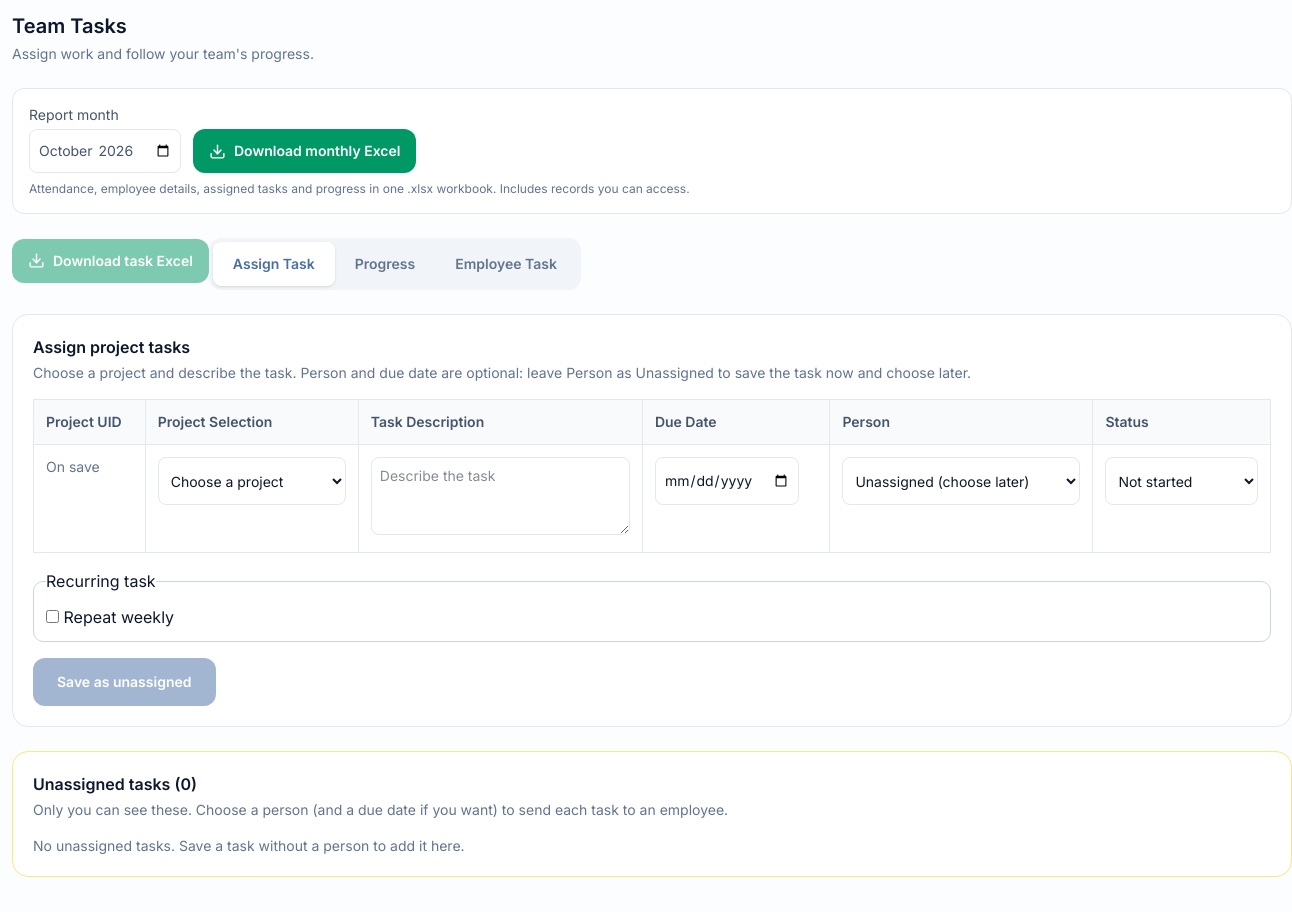
Scenario: manager task assignments › lists every active employee, not only direct reports, and opens progress
This screenshot has width=1292, height=912.
Step 1. Select "My Employee" in the dropdown named "Person" → coordinates (961, 481), box [842,457,1080,505]
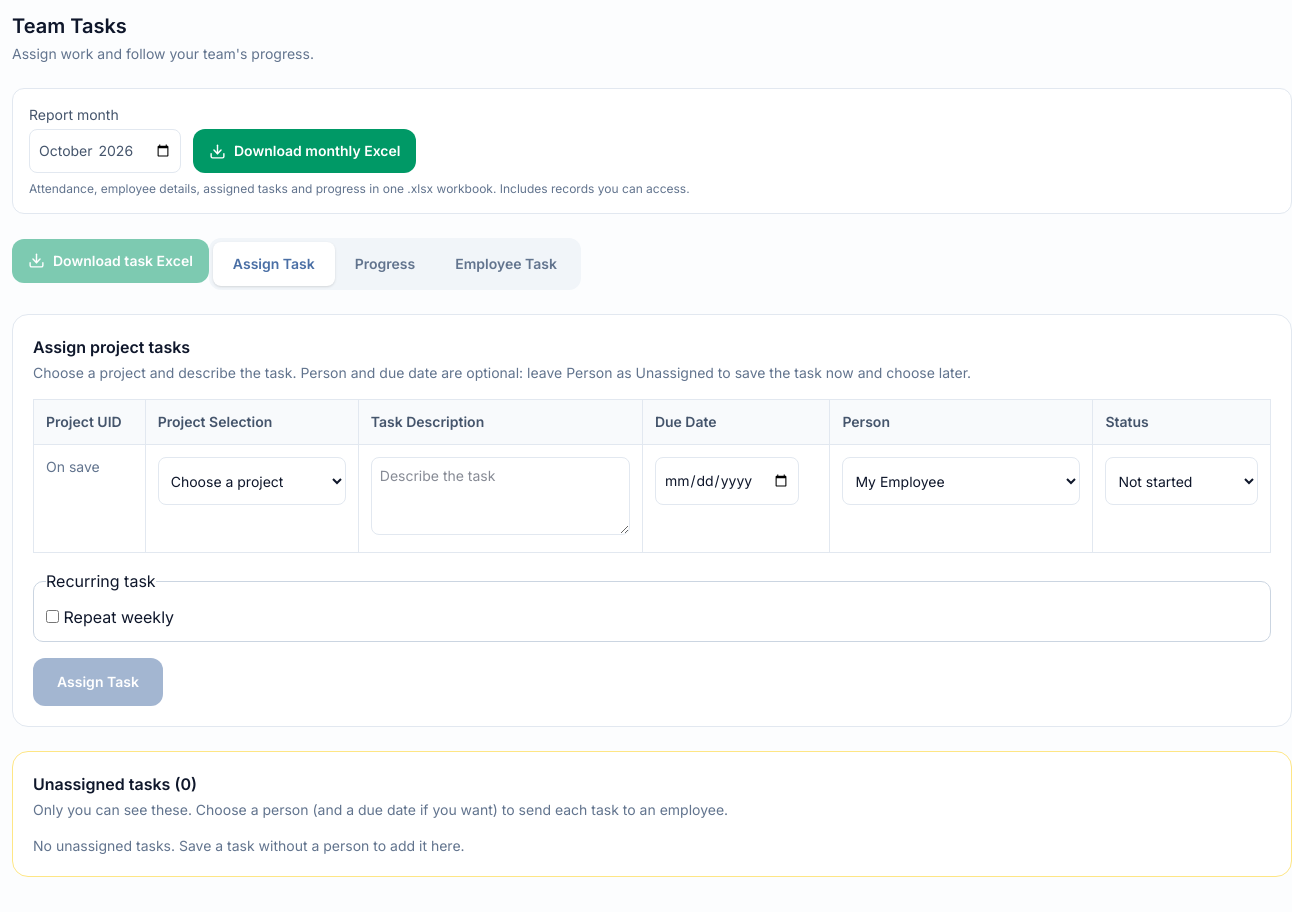
Step 2. Select "+ Add new project" in the dropdown named "Project Selection" → coordinates (252, 481), box [158,457,346,505]
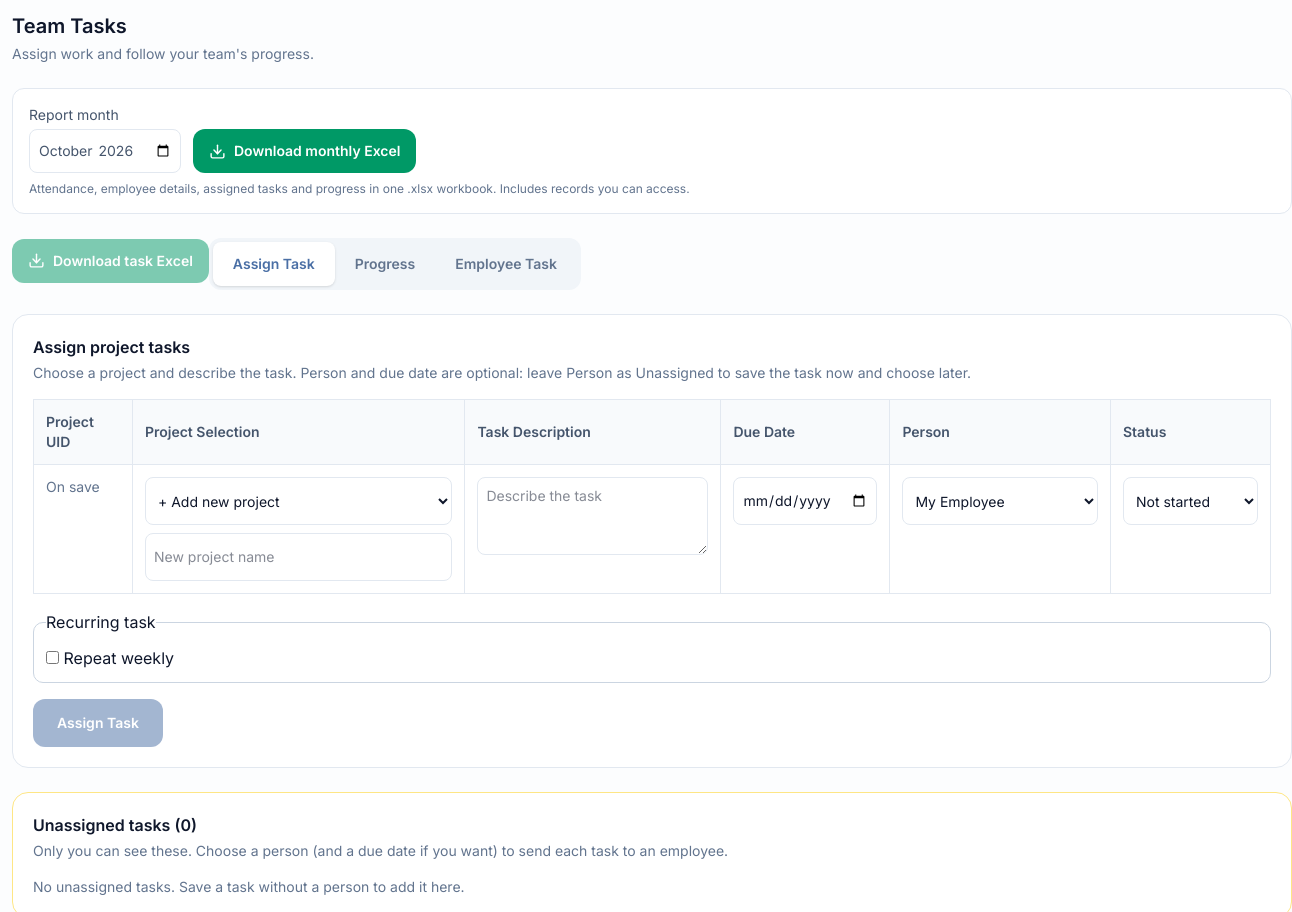
Step 3. Type " Tower A " into the field labelled "New project name" → coordinates (299, 557), box [145,533,452,581]
Step 4. Type "Complete drawing review" into the text box named "Task Description" → coordinates (593, 516), box [477,477,708,555]
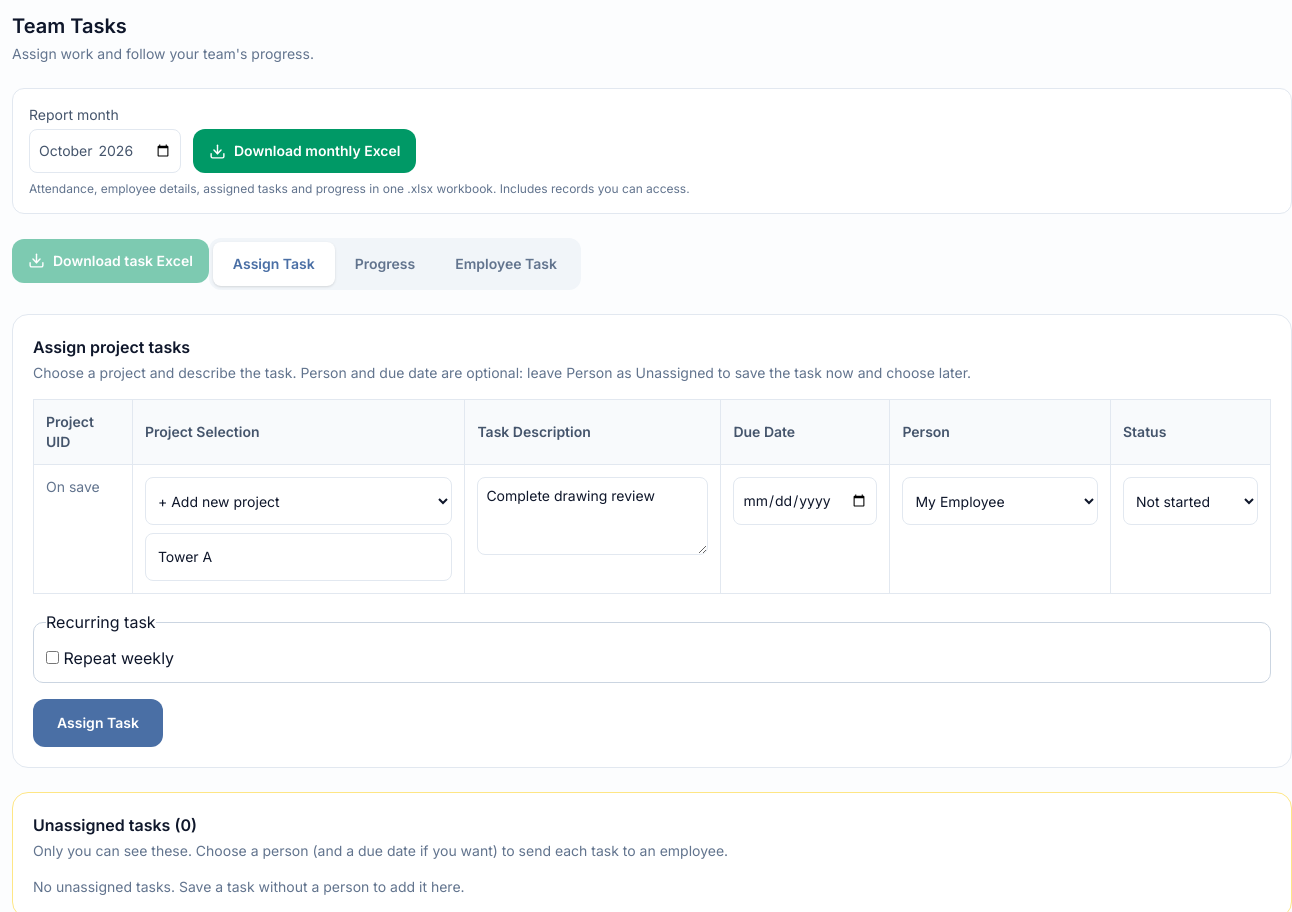
Step 5. Type "2026-10-15" into the date field named "Due Date" → coordinates (805, 501), box [733,477,877,525]
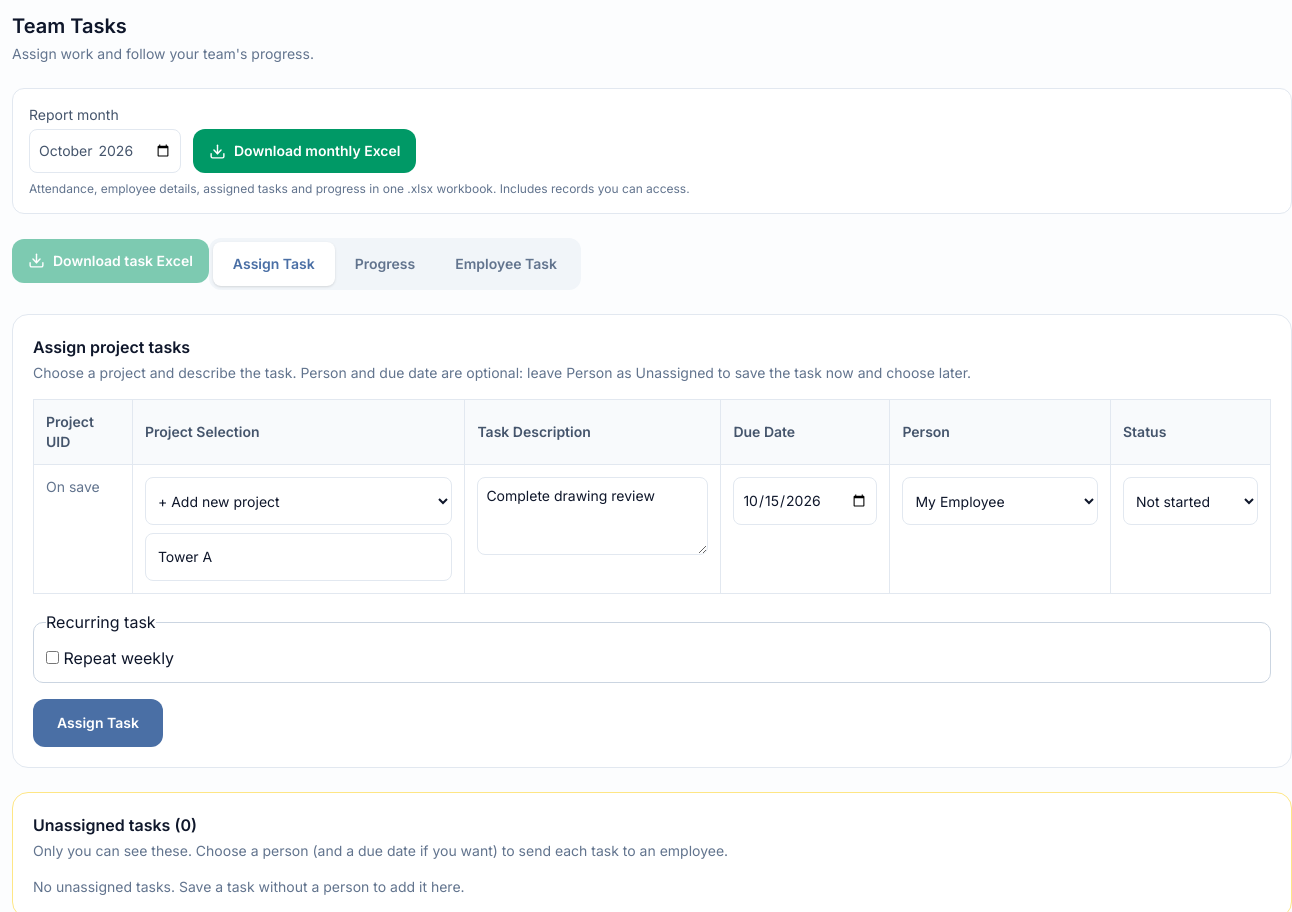
Step 6. Select "In progress" in the dropdown named "Status" → coordinates (1190, 501), box [1123,477,1258,525]
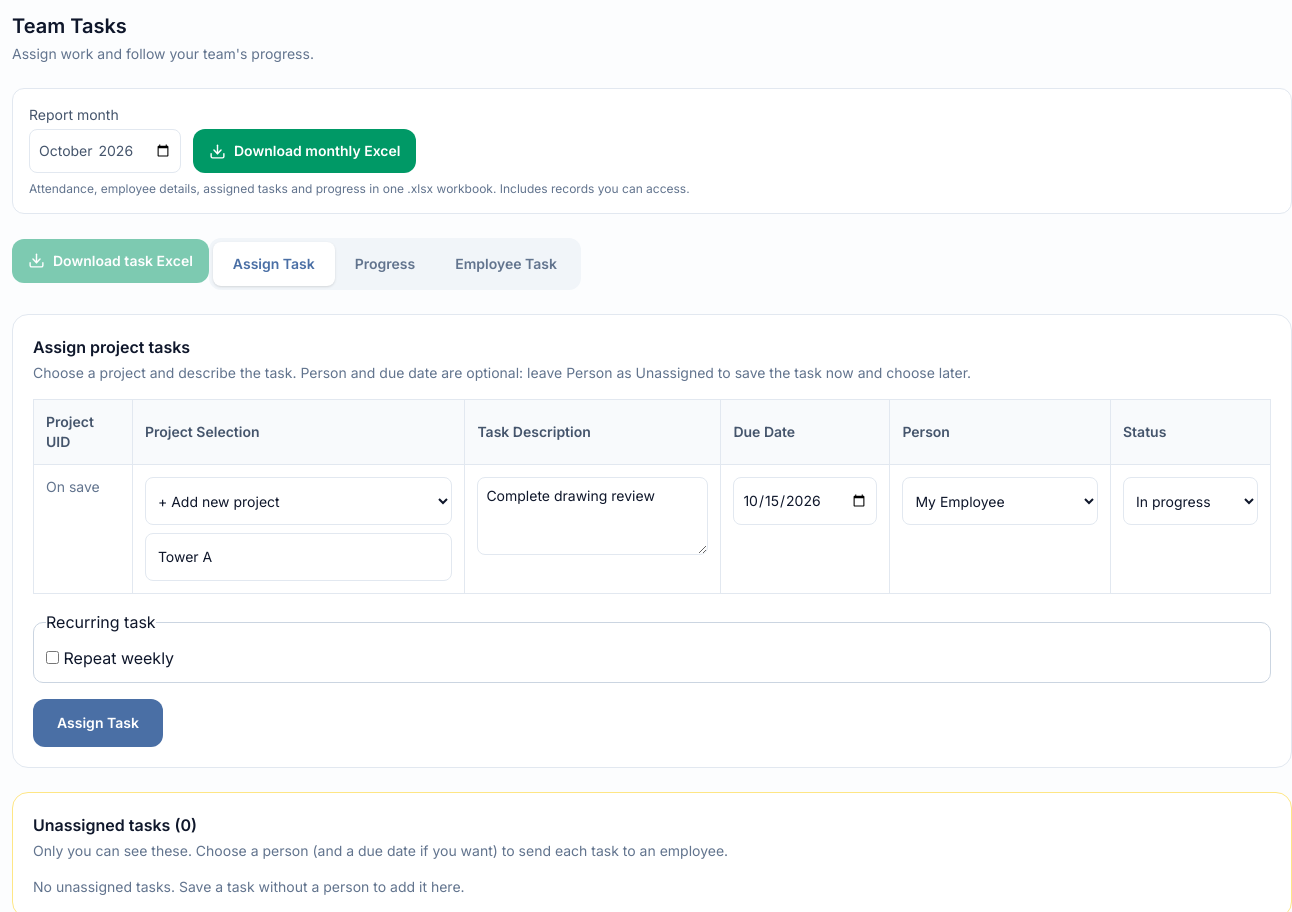
Step 7. Click the button "Assign Task" → coordinates (98, 723), box [33,699,163,747]
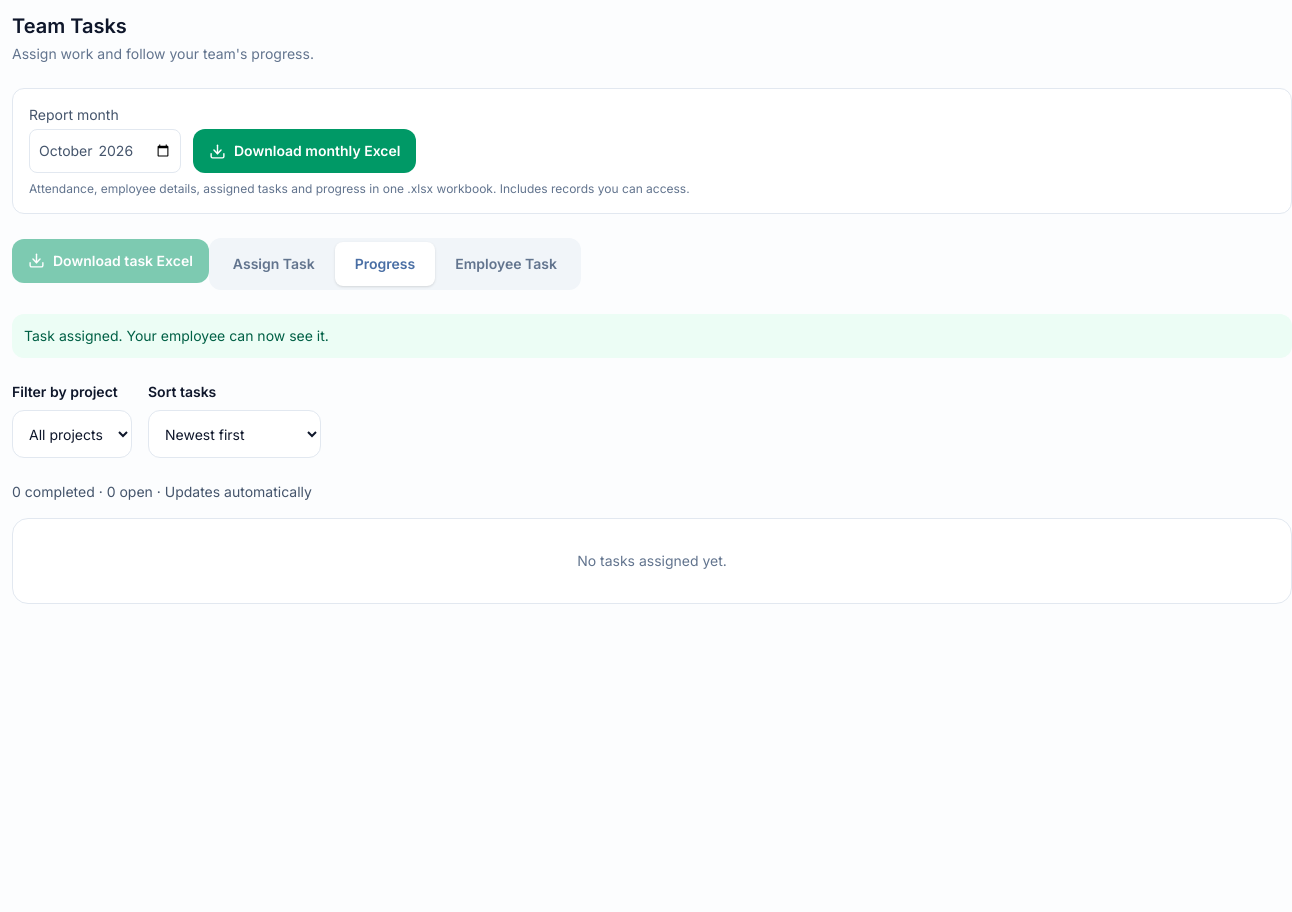
Now the text "Task assigned. Your employee can now see it." is shown, box [12,314,1291,358]
